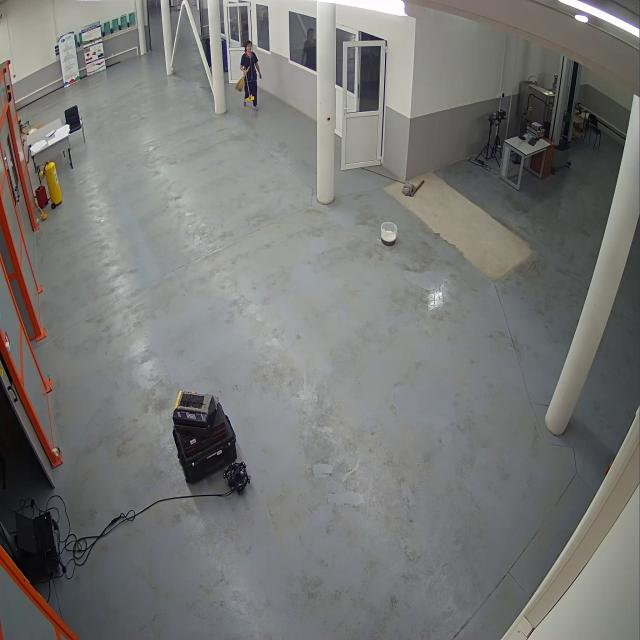NO-Hardhat: (244, 38, 255, 47)
Person: (237, 36, 264, 113)
